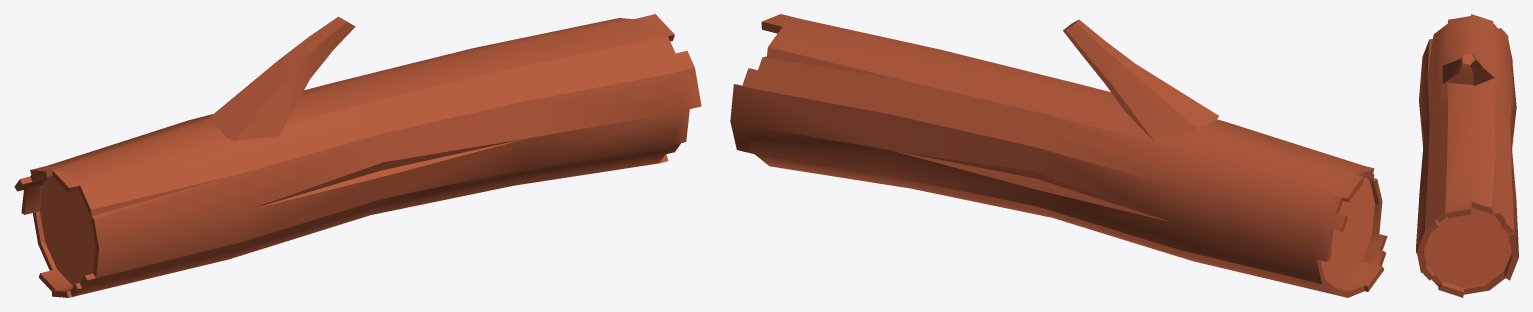
File: trunk3.fbx
3 renders of one model, left to right at view 1: azimuth 30°, elevation 25°; view 2: azimuth 150°, elevation 25°; view 3: azimuth 270°, elevation 25°, orthographic. The views are drawn at different scales.
Visible parts, largest first — view 1: trunk3; view 2: trunk3; view 3: trunk3.
Boxes of the visible parts, bbox=[...] form: trunk3: bbox=[14, 14, 701, 297]; trunk3: bbox=[730, 14, 1387, 297]; trunk3: bbox=[1416, 14, 1518, 297].
Size of the model in its own units: 1339 by 442 by 286.
